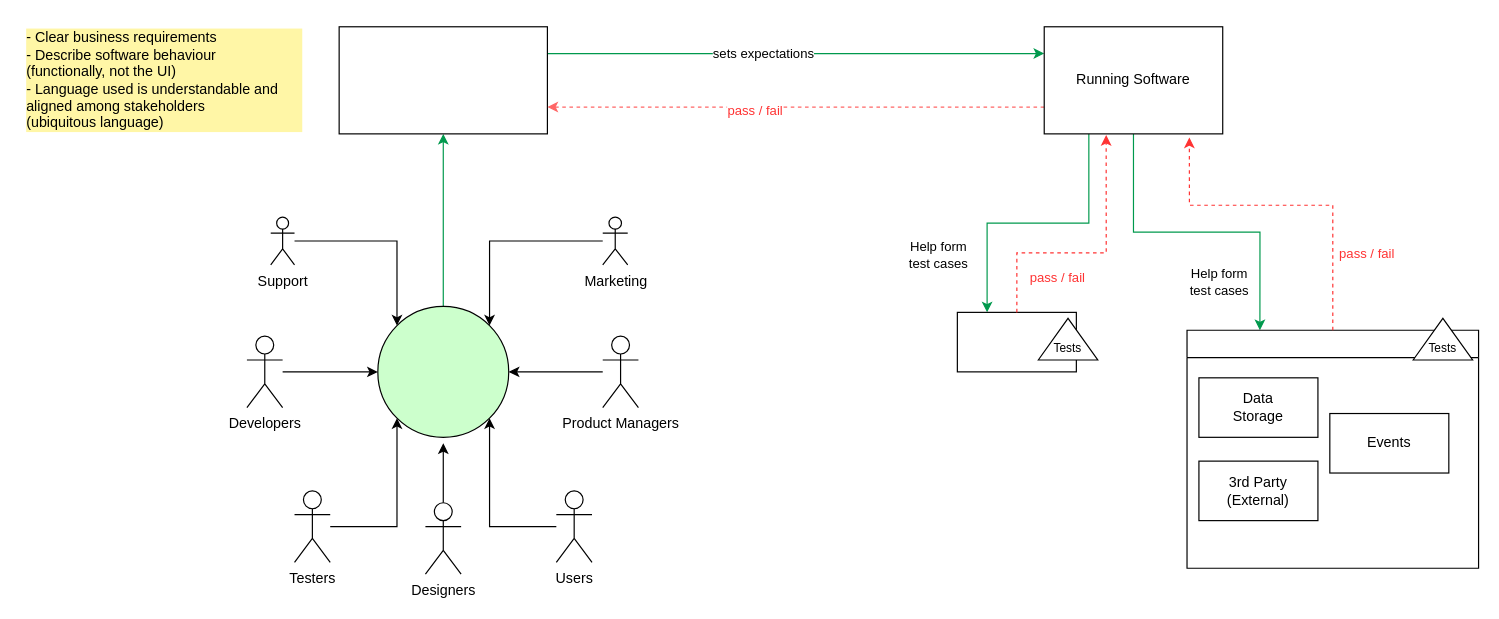
The diagram is 1499 pixels wide and 619 high, and some of its shapes have lost their labels. The box of each missing label's shape, as (x1, y1, x2, y2) in pixels:
BE / Services: (1186, 329, 1479, 568)
cFit Document: (338, 26, 547, 134)
Collaborate and agree on software behaviour: (377, 305, 509, 437)
UI: (956, 311, 1076, 372)
